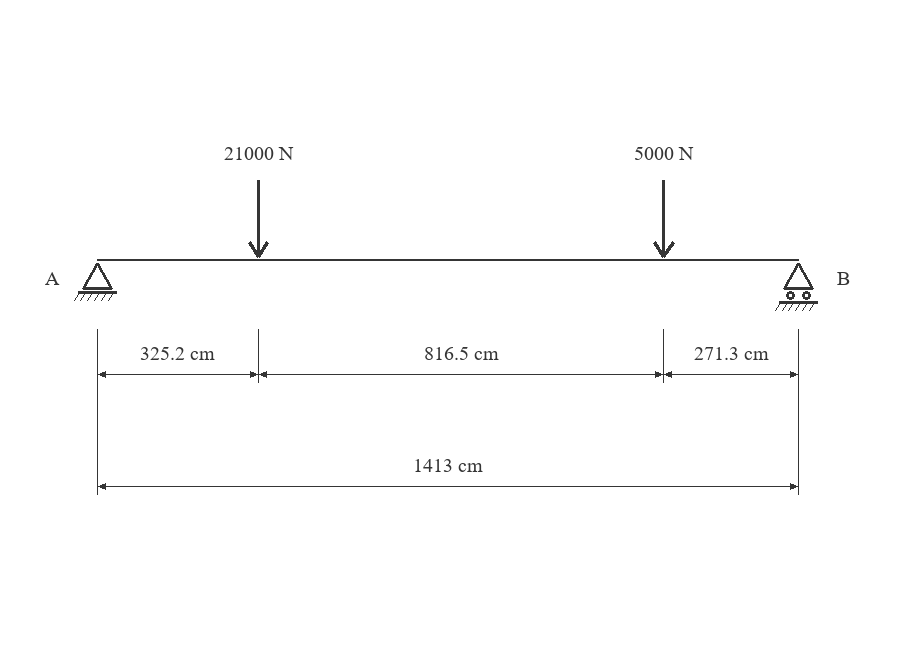pin_support: (74, 263, 117, 301)
point_load: (653, 180, 675, 258), (248, 180, 269, 258)
roller_support: (775, 263, 818, 311)
